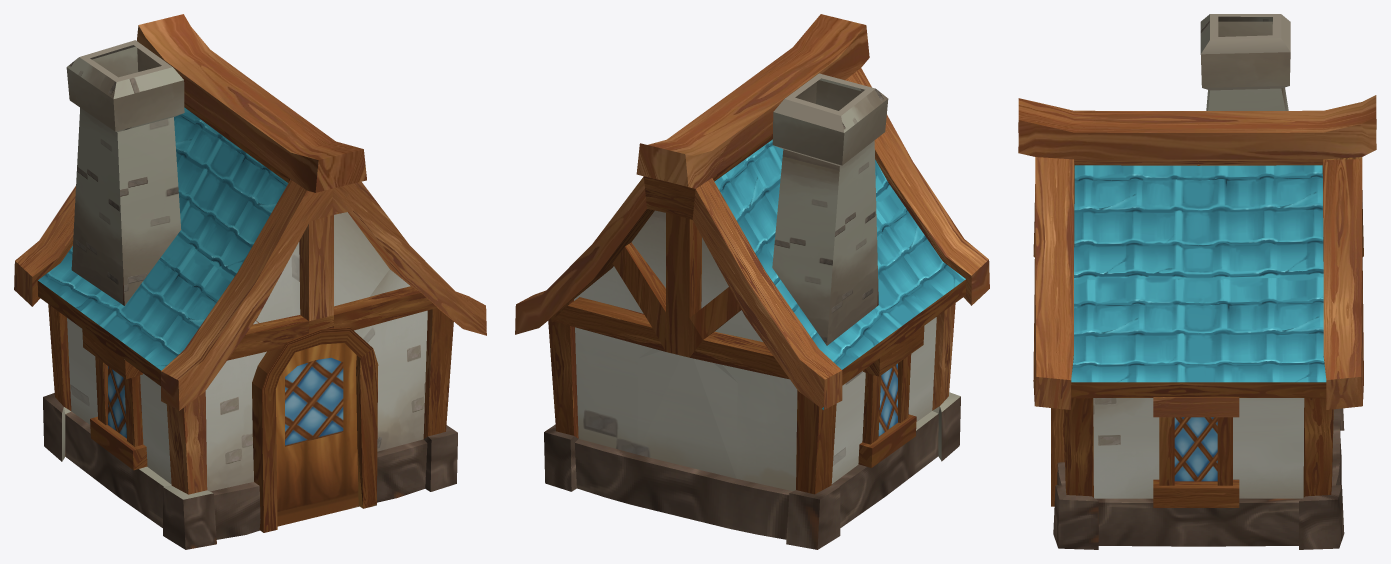
Rendered from Bluehouse.fbx.
The picture shows the model from 3 angles, left to right: view 1: azimuth 30°, elevation 25°; view 2: azimuth 150°, elevation 25°; view 3: azimuth 270°, elevation 25°; orthographic projection.
Parts seen in each view (by area): view 1: Cube; view 2: Cube; view 3: Cube.
Boxes of the visible parts, box(x1,y1,x2,y2) form: Cube: box(14, 14, 486, 549); Cube: box(515, 14, 989, 549); Cube: box(1018, 14, 1376, 549).
Bounding box in the file's own units: 573 × 735 × 583.
1 material, 1 textured.
